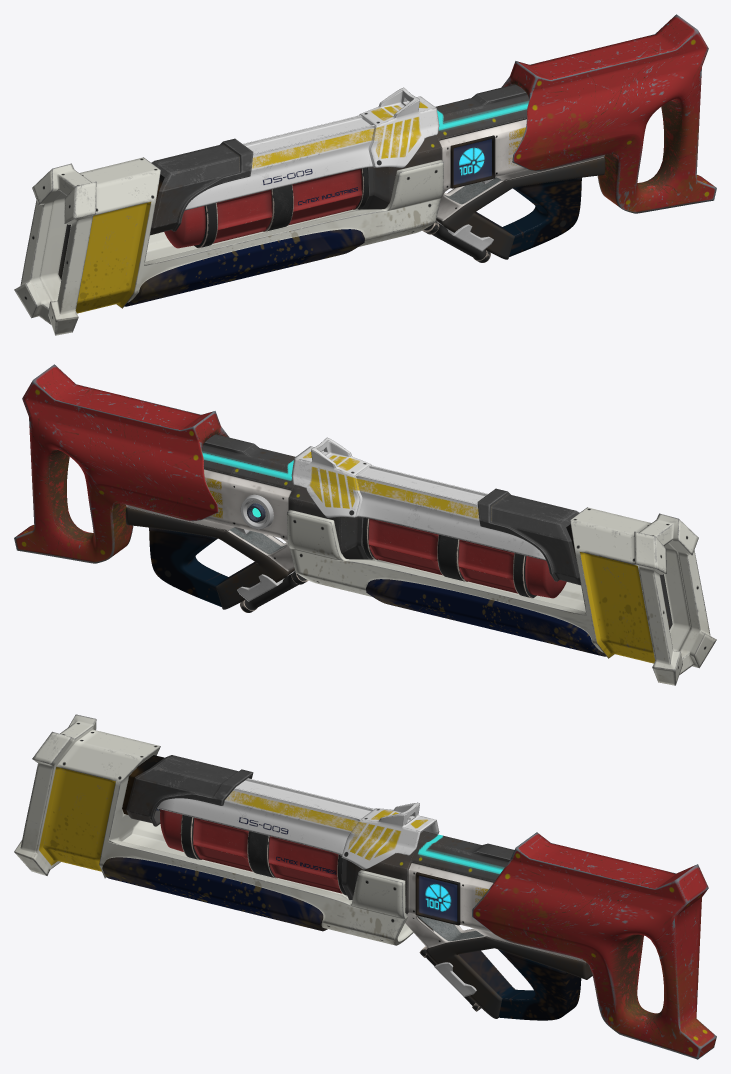
The model's file is force_gun.glb.
3 renders of one model, top to bottom at view 1: azimuth 30°, elevation 25°; view 2: azimuth 150°, elevation 25°; view 3: azimuth 330°, elevation 25°, orthographic.
Parts seen in each view (by area): view 1: GunModify, GunMain02, GunMain03, GunMain01; view 2: GunModify, GunMain02, GunMain03, GunMain01; view 3: GunModify, GunMain02, GunMain03, GunMain01.
Part boxes in pixels (x1,y1,x2,y2): GunModify: (14, 14, 716, 335); GunMain02: (150, 84, 605, 259); GunMain03: (185, 87, 439, 210); GunMain01: (164, 168, 496, 262); GunModify: (14, 364, 716, 685); GunMain02: (125, 434, 580, 609); GunMain03: (291, 437, 545, 560); GunMain01: (234, 494, 566, 612); GunModify: (14, 714, 716, 1059); GunMain02: (122, 755, 592, 1020); GunMain03: (157, 778, 439, 869); GunMain01: (156, 808, 481, 1011).
Bounding box in the file's own units: 1.69 × 0.4531 × 0.1965.
4 materials, 4 textured.
